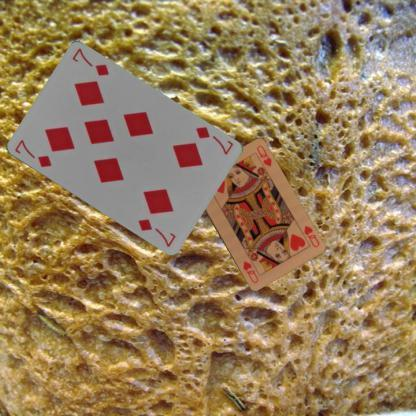7d: (192, 123, 234, 156), (12, 137, 52, 169)
Qh: (301, 223, 321, 248)
